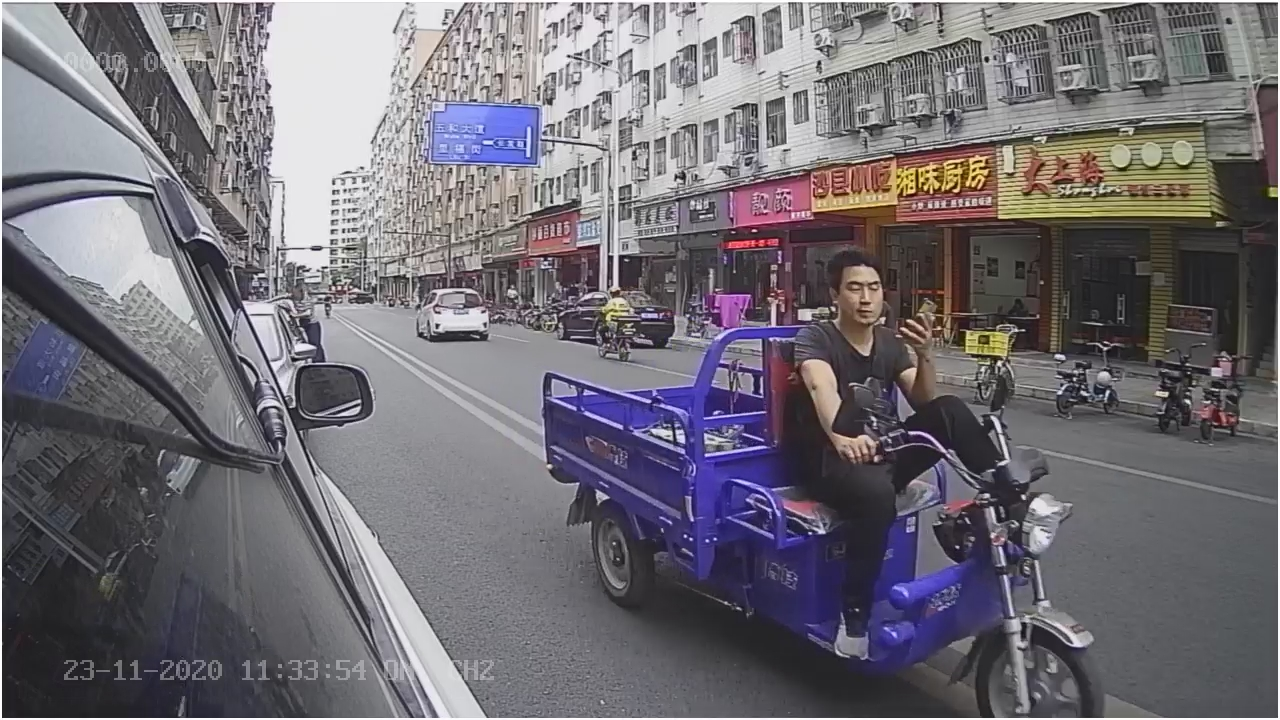person: (792, 249, 966, 456)
